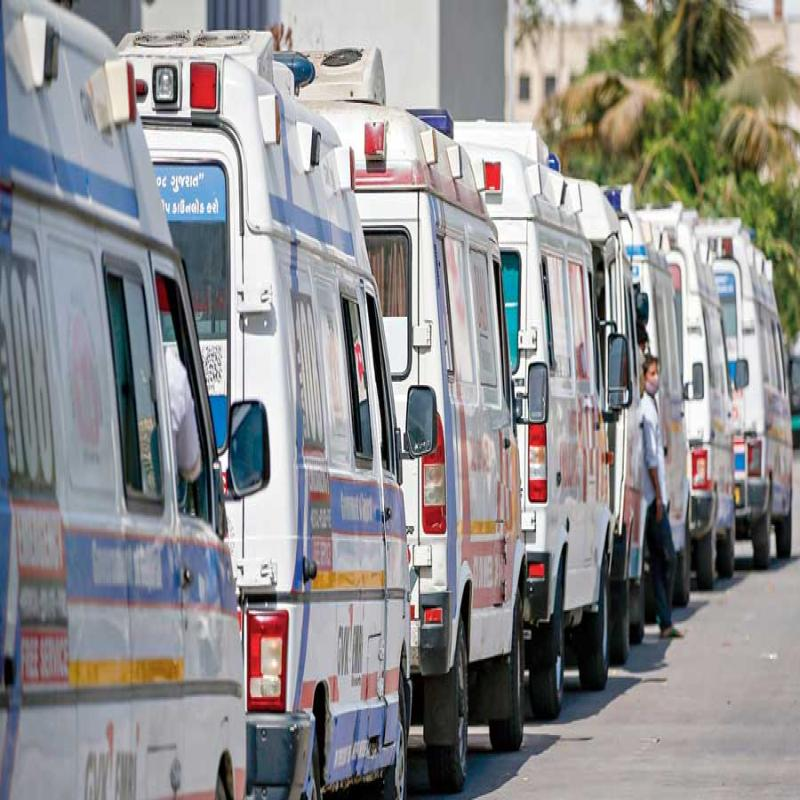ambulance: (129, 3, 427, 800), (0, 0, 252, 795), (316, 74, 526, 756), (450, 93, 632, 716), (631, 185, 742, 606), (698, 206, 796, 574)
